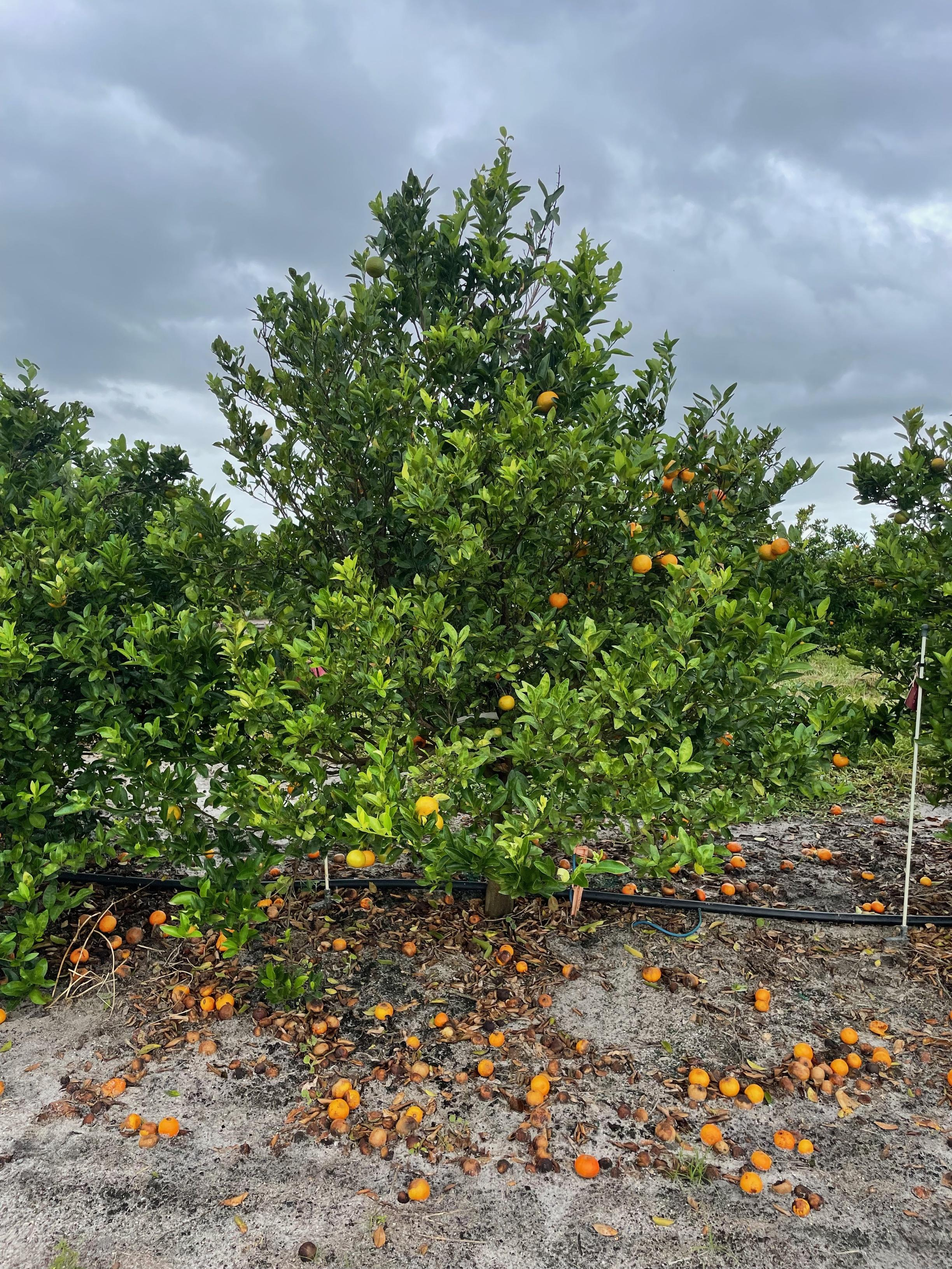fruit_on_ground: (536, 388, 561, 413), (364, 253, 387, 279), (413, 795, 440, 817), (630, 552, 654, 575), (569, 536, 592, 559), (659, 458, 683, 480), (45, 587, 68, 609), (161, 801, 183, 824), (375, 844, 398, 865), (547, 590, 569, 611), (425, 813, 446, 833), (661, 473, 681, 494), (758, 542, 778, 563), (346, 848, 366, 869), (496, 692, 517, 712), (830, 749, 852, 768), (770, 536, 790, 556), (584, 577, 604, 596), (714, 730, 734, 749), (357, 848, 376, 868), (622, 521, 644, 538), (707, 487, 727, 505), (928, 455, 948, 473), (653, 549, 671, 569), (661, 552, 679, 571), (678, 465, 696, 483), (892, 509, 911, 526), (660, 508, 680, 524), (643, 488, 660, 506), (286, 780, 303, 796), (695, 499, 712, 515), (701, 460, 715, 475), (873, 577, 888, 590)
fruit_on_tree: (406, 1176, 433, 1203), (574, 1152, 600, 1178), (718, 1074, 742, 1098), (739, 1171, 764, 1194), (329, 1078, 354, 1100), (102, 1075, 127, 1097), (700, 1122, 723, 1145), (158, 1115, 181, 1138), (215, 991, 236, 1016), (529, 1073, 552, 1095), (688, 1065, 711, 1087), (773, 1128, 796, 1150), (653, 1120, 677, 1141), (686, 1083, 710, 1103), (790, 1196, 811, 1218), (328, 1099, 350, 1120), (744, 1081, 766, 1102), (121, 1111, 144, 1131), (67, 945, 90, 965), (640, 964, 663, 984), (789, 1059, 813, 1078), (494, 943, 515, 964), (97, 912, 118, 933), (793, 1040, 814, 1061), (394, 1111, 416, 1131), (807, 1064, 828, 1084), (751, 1146, 771, 1167), (368, 1126, 388, 1147), (866, 1016, 888, 1035), (560, 961, 582, 980), (460, 1156, 481, 1175), (198, 1039, 219, 1058), (138, 1120, 159, 1139), (373, 1000, 394, 1019), (123, 925, 144, 944), (329, 1118, 351, 1136), (526, 1089, 548, 1107), (409, 1059, 431, 1077), (774, 1176, 794, 1195), (343, 1087, 362, 1107), (839, 1025, 859, 1044), (75, 910, 96, 928), (171, 984, 192, 1002), (404, 1104, 425, 1122), (754, 987, 772, 1008), (147, 908, 168, 926), (573, 1037, 592, 1056), (112, 961, 131, 980), (796, 1136, 815, 1155), (476, 1057, 495, 1076), (829, 1056, 848, 1075), (198, 993, 216, 1013), (680, 971, 700, 989), (872, 1050, 893, 1067), (844, 1051, 863, 1069), (631, 1105, 649, 1124), (399, 939, 418, 957), (702, 1164, 722, 1181), (127, 1056, 146, 1073), (850, 1035, 869, 1052), (323, 1012, 342, 1029), (114, 848, 133, 865), (310, 1018, 329, 1035), (303, 1001, 324, 1016), (634, 1150, 652, 1167), (513, 1124, 531, 1141), (107, 934, 125, 951), (488, 1029, 506, 1046), (312, 1040, 331, 1056), (196, 981, 215, 997), (854, 1076, 873, 1092), (433, 1010, 450, 1027), (536, 991, 553, 1008), (182, 993, 200, 1009), (342, 993, 359, 1009), (467, 910, 484, 926), (478, 1082, 494, 1099), (513, 958, 530, 974), (405, 1034, 422, 1050), (729, 854, 747, 869), (943, 1063, 952, 1092), (82, 853, 98, 869), (184, 1029, 201, 1044), (547, 1058, 562, 1075), (359, 895, 376, 910), (754, 999, 771, 1014), (556, 856, 573, 871), (331, 936, 348, 951), (725, 839, 743, 853), (376, 1144, 392, 1159), (201, 845, 217, 860), (332, 850, 348, 865), (819, 1078, 834, 1094), (816, 847, 832, 862), (305, 846, 322, 860), (0, 1003, 10, 1026), (694, 886, 709, 901), (396, 1188, 410, 1204), (441, 892, 457, 906), (617, 1103, 631, 1119), (661, 883, 677, 897), (266, 906, 281, 920), (267, 864, 282, 878), (828, 802, 843, 816), (720, 881, 735, 895), (0, 1074, 8, 1100), (256, 895, 272, 908), (779, 858, 795, 871), (455, 1070, 469, 1084), (620, 884, 636, 896), (861, 868, 875, 881), (919, 874, 933, 887), (870, 900, 885, 912), (747, 879, 760, 892), (271, 894, 285, 906), (860, 900, 875, 911), (597, 850, 610, 862), (668, 862, 681, 874), (873, 813, 887, 824), (723, 862, 735, 873), (625, 881, 637, 890)
